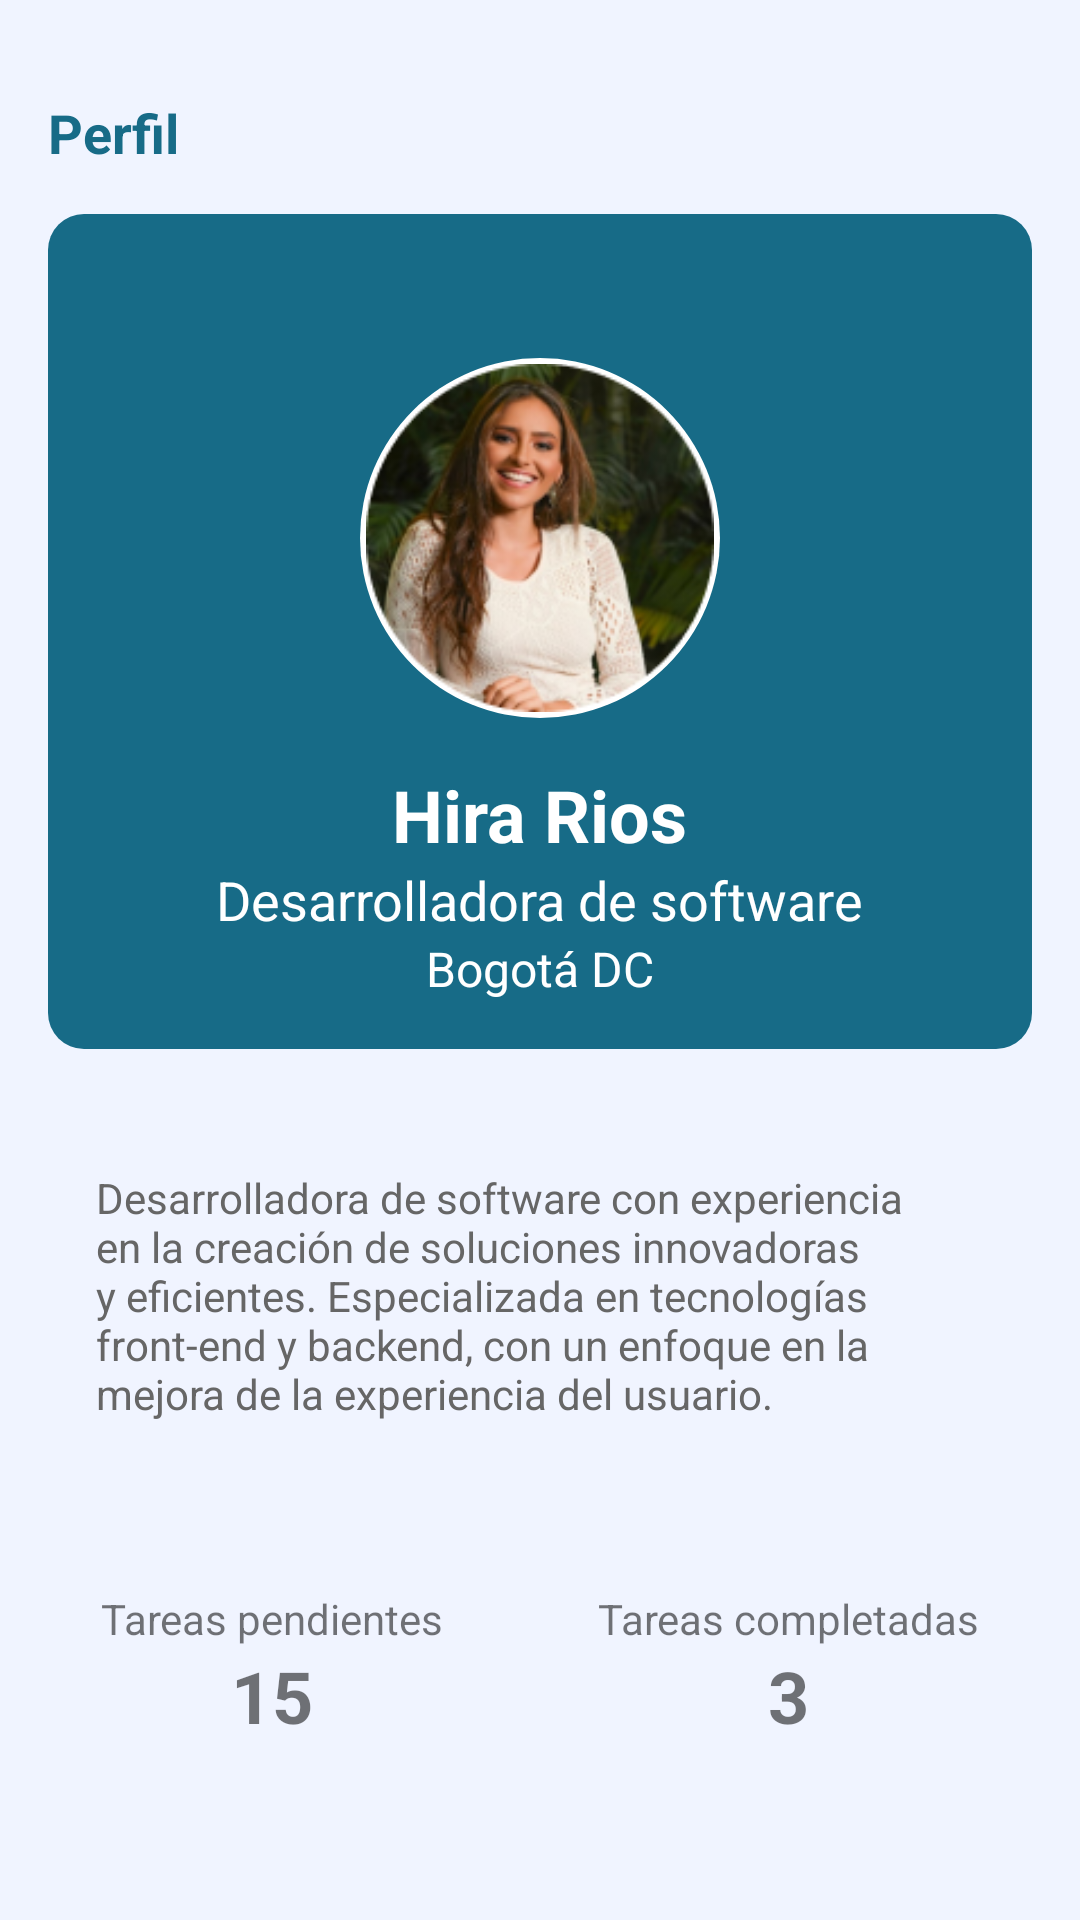

Icons on this 1080px x 1920px Android screen, each with its box as (x1, y1, x2, y2):
user profile: (360, 358, 720, 718)
